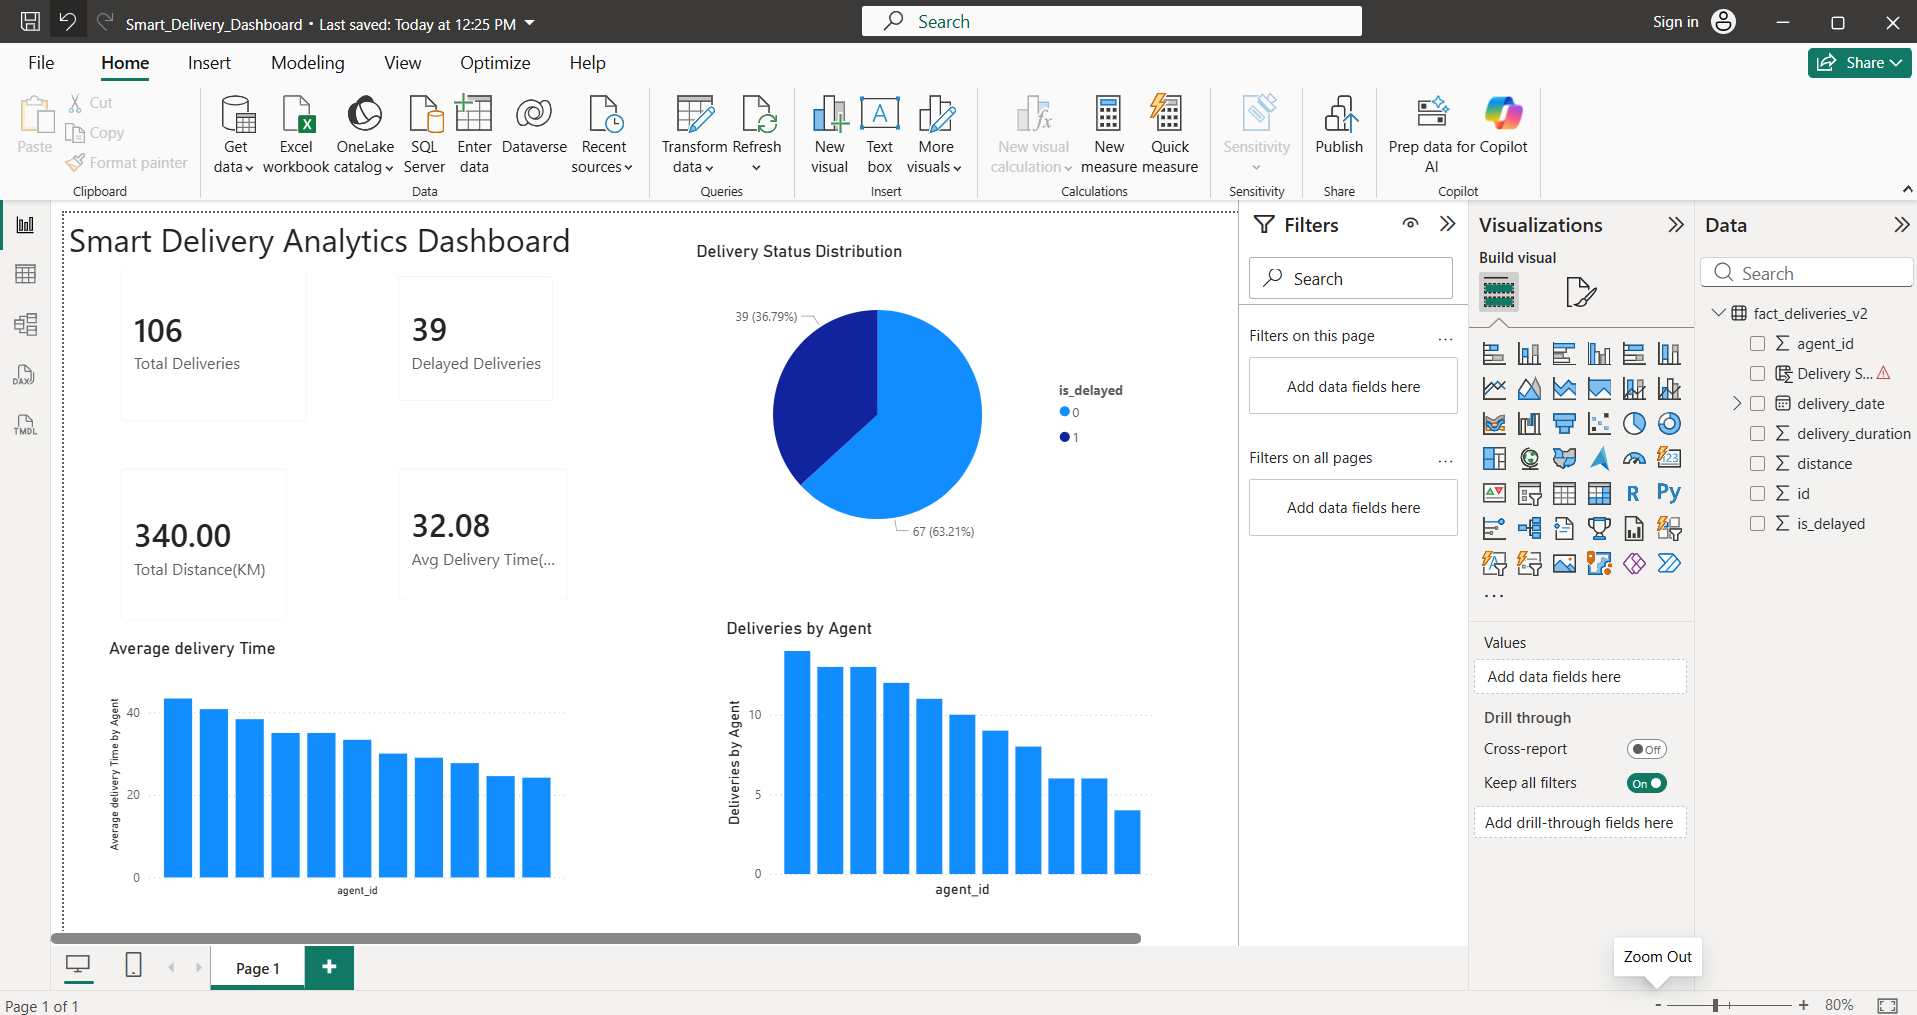

This screenshot's page, from the dashboard's own definition file:
{"tool":"powerbi","page":{"name":"Page 1","canvas":[1280,720],"ordinal":0},"visuals":[{"type":"pieChart","title":"Delivery Status Distribution","fields":{"Category":["fact_deliveries_v2.is_delayed"],"Y":["CountNonNull(fact_deliveries_v2.id)"]},"box":[627.1,27.4,455.6,329.3],"z":0},{"type":"clusteredColumnChart","title":"Deliveries by Agent ","fields":{"Y":["CountNonNull(fact_deliveries_v2.id)"],"Category":["fact_deliveries_v2.agent_id"]},"box":[657.3,404.8,437.7,284],"z":1},{"type":"cardVisual","fields":{"Data":["CountNonNull(fact_deliveries_v2.id)"]},"box":[39.8,27.4,220.9,199],"z":2},{"type":"cardVisual","fields":{"Data":["Avg(fact_deliveries_v2.delivery_duration)"]},"box":[317,238.8,204.5,166],"z":3},{"type":"cardVisual","fields":{"Data":["Sum(fact_deliveries_v2.distance)"]},"box":[39.8,238.8,200.3,186.6],"z":4},{"type":"cardVisual","fields":{"Data":["Sum(fact_deliveries_v2.is_delayed)"]},"box":[317,46.7,189.4,159.2],"z":5},{"type":"clusteredColumnChart","title":"Average delivery Time","fields":{"Category":["fact_deliveries_v2.agent_id"],"Y":["Avg(fact_deliveries_v2.delivery_duration)"]},"box":[39.8,425.4,466.6,263.5],"z":6}]}

Visuals, with their boxes in screenshot pixels (x1, y1, x2, y2):
"Delivery Status Distribution" pieChart: left=939, top=42, right=1549, bottom=483
"Deliveries by Agent " clusteredColumnChart: left=980, top=547, right=1566, bottom=927
cardVisual - CountNonNull(fact_deliveries_v2.id): left=153, top=42, right=449, bottom=308
cardVisual - Avg(fact_deliveries_v2.delivery_duration): left=524, top=325, right=798, bottom=547
cardVisual - Sum(fact_deliveries_v2.distance): left=153, top=325, right=421, bottom=575
cardVisual - Sum(fact_deliveries_v2.is_delayed): left=524, top=68, right=778, bottom=281
"Average delivery Time" clusteredColumnChart: left=153, top=575, right=778, bottom=927
